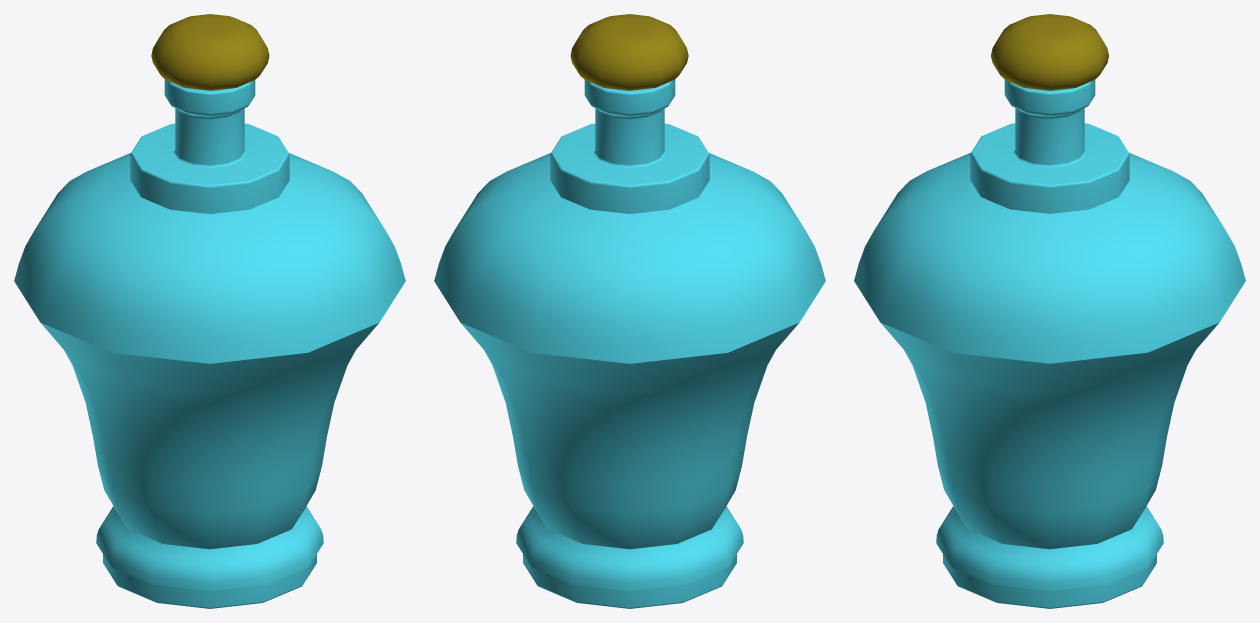
File: potion21.FBX
3 renders of one model, left to right at view 1: azimuth 30°, elevation 25°; view 2: azimuth 150°, elevation 25°; view 3: azimuth 270°, elevation 25°, orthographic.
Parts seen in each view (by area): view 1: potion_21glass; view 2: potion_21glass; view 3: potion_21glass.
Part boxes in pixels (x1=…): potion_21glass: x1=14, y1=14, x2=405, y2=608; potion_21glass: x1=434, y1=14, x2=825, y2=608; potion_21glass: x1=854, y1=14, x2=1245, y2=608.
Size of the model in its own units: 32.78 by 49.68 by 32.78.
